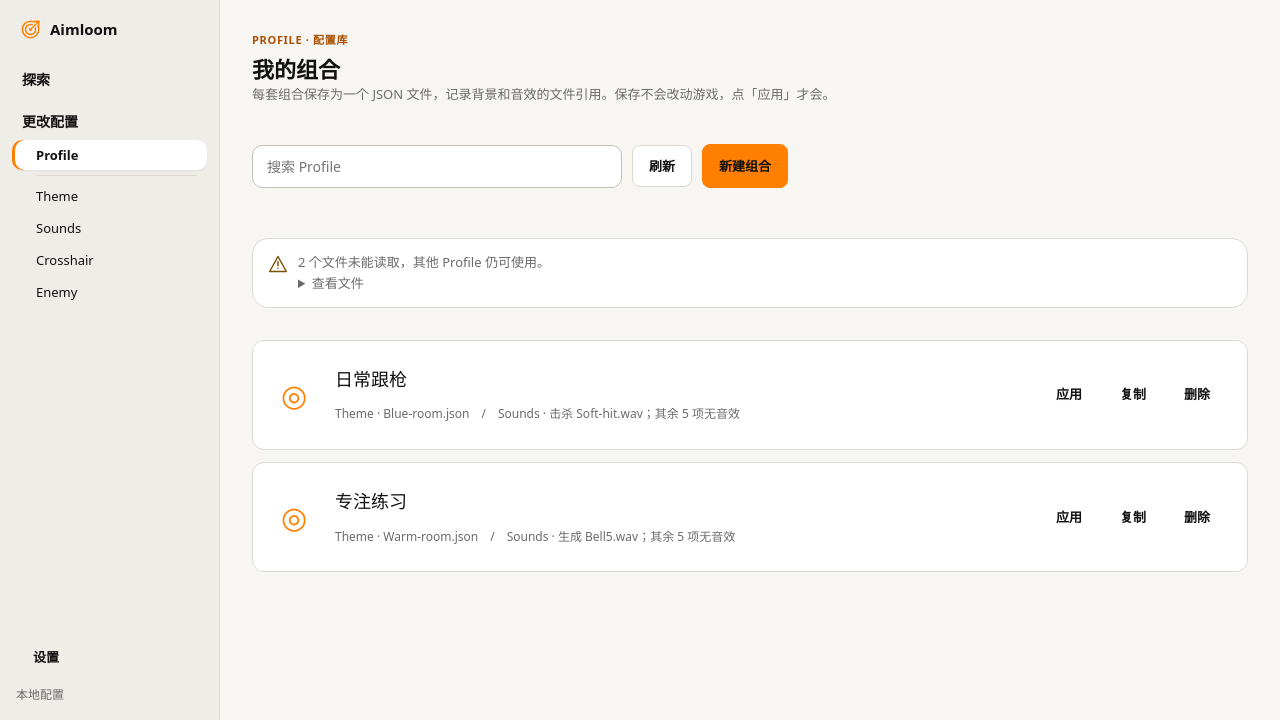
Scenario: an unreadable Profile file in the list › offers Delete only for a file named like an id, confirms, deletes it and lists again
What coordinates should you click on to do the following:
click the heading "查看文件"
I would click on:
 (338, 283)
Its box is [312,274,364,292].
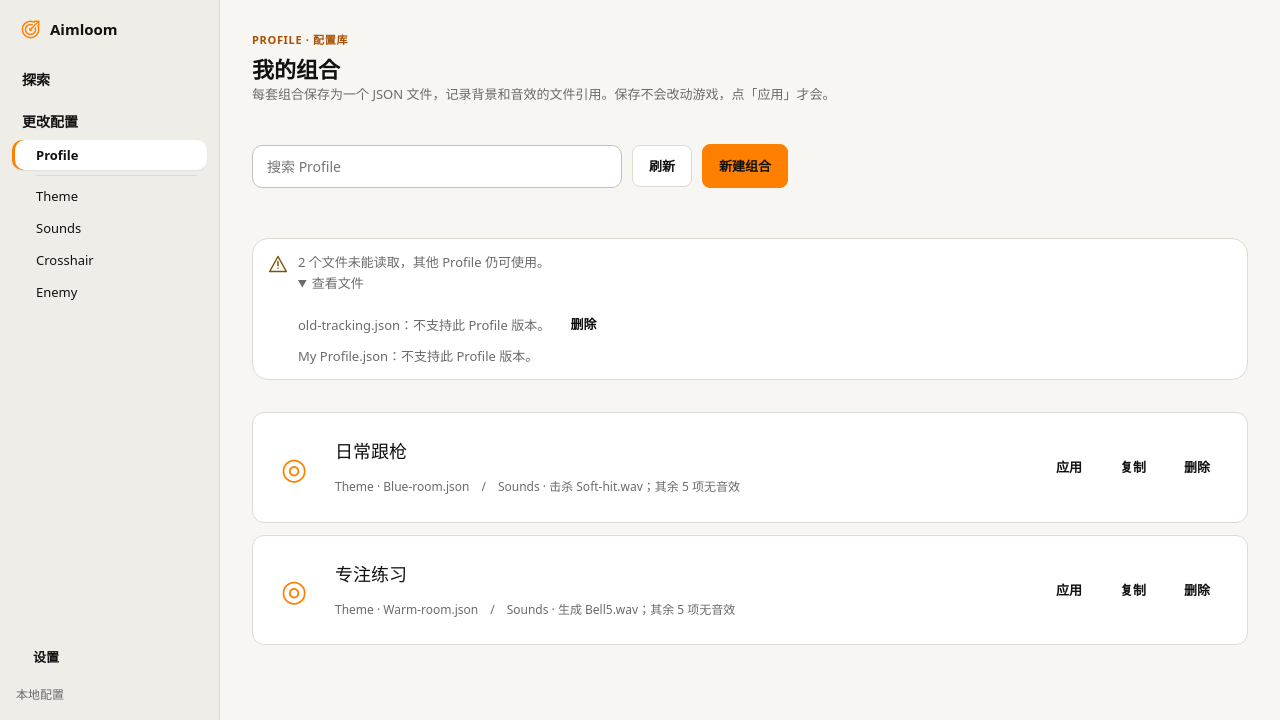
Expected: the text "old-tracking.json：不支持此 Profile 版本。 删除" is shown, [298,294,614,346]
Expected: the button with aria-label "删除 old-tracking.json" is enabled
What coordinates should you click on to do the following:
click the button with aria-label "删除 old-tracking.json"
I would click on:
 (584, 325)
Its box is [554,304,614,346].
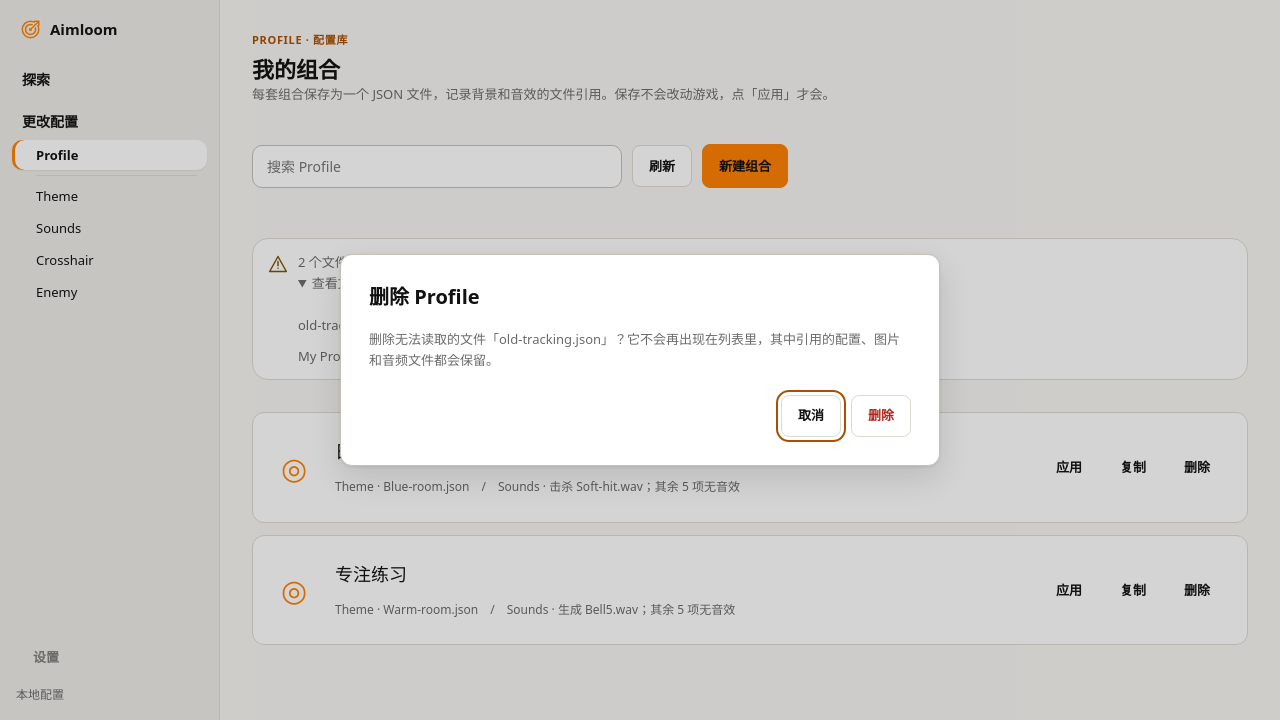
Expected: the text "删除无法读取的文件「old-tracking.json」？它不会再出现在列表里，其中引用的配置、图片和音频文件都会保留。" is shown, [369,329,911,371]
What coordinates should you click on to do the following:
click the button "删除"
I would click on:
 (881, 416)
Its box is [851,395,911,437].
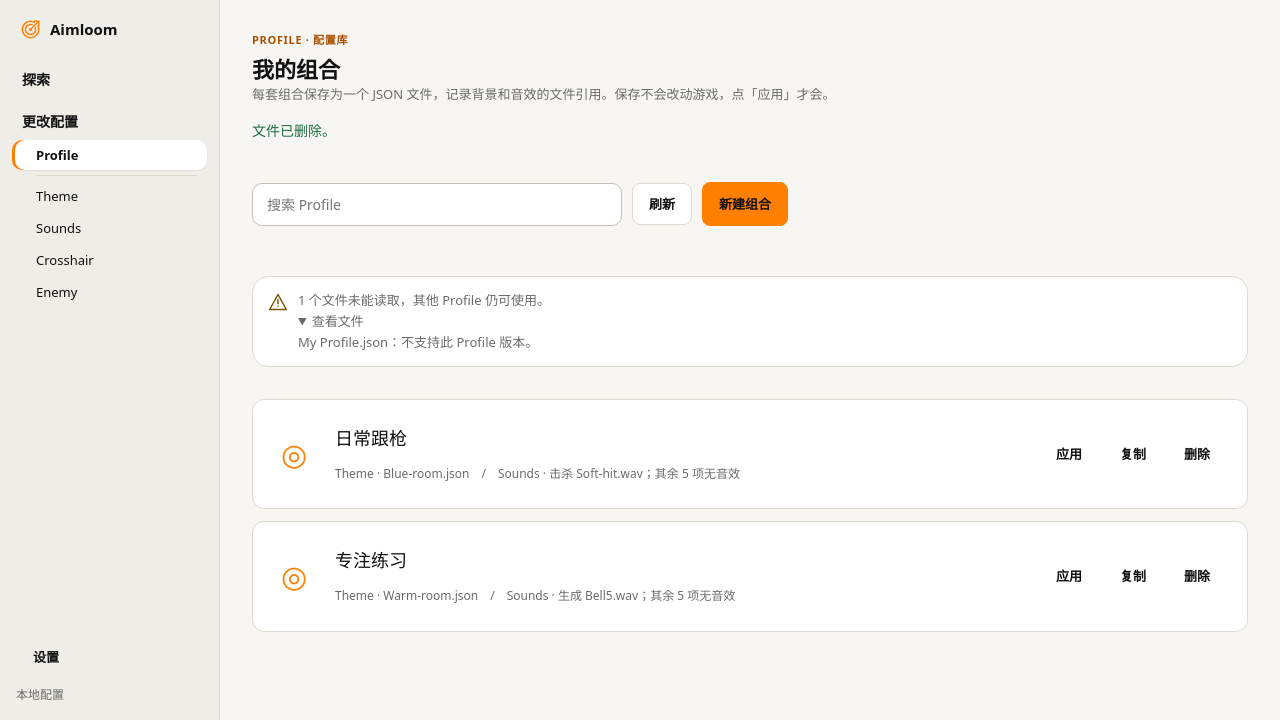
Expected: the dialog is gone
Expected: the text "old-tracking.json" is gone
